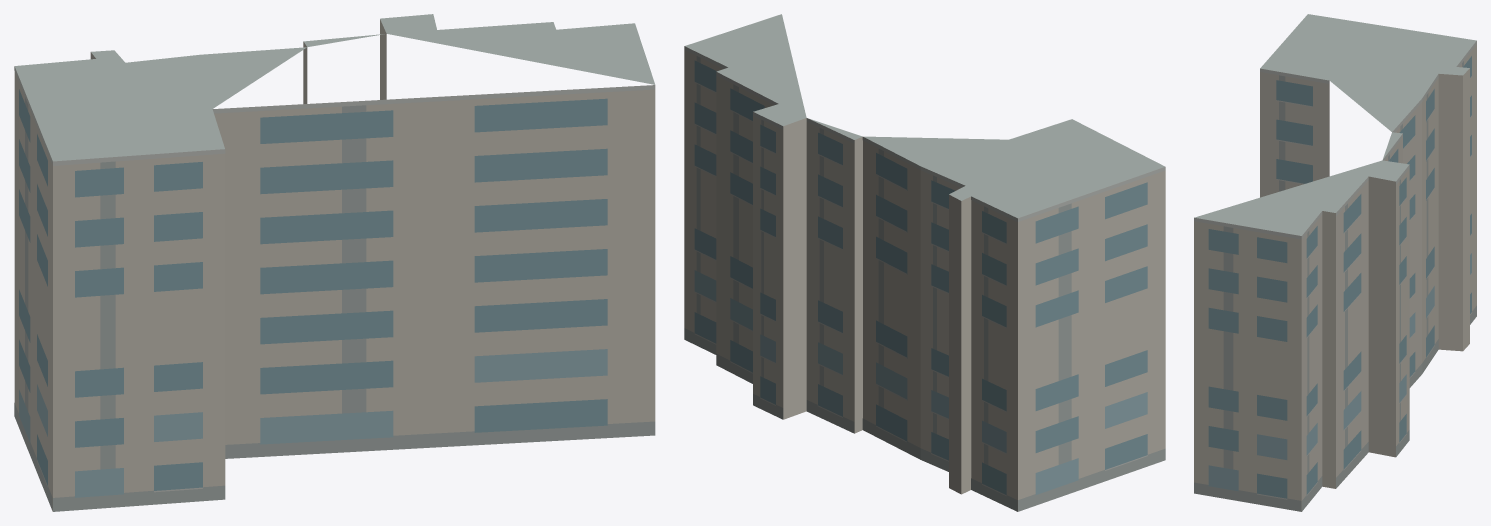
Rendered from survey-upis-32869439.glb.
The picture shows the model from 3 angles, left to right: view 1: azimuth 30°, elevation 25°; view 2: azimuth 150°, elevation 25°; view 3: azimuth 270°, elevation 25°; orthographic projection. The views are drawn at different scales.
Visible parts, largest first — view 1: survey-upis-32869439.tmp; view 2: survey-upis-32869439.tmp; view 3: survey-upis-32869439.tmp.
Part boxes in pixels (bbox=[...]): survey-upis-32869439.tmp: bbox=[14, 14, 655, 511]; survey-upis-32869439.tmp: bbox=[684, 14, 1165, 511]; survey-upis-32869439.tmp: bbox=[1194, 14, 1476, 511].
Bounding box in the file's own units: 32.64 × 18.9 × 17.57.
